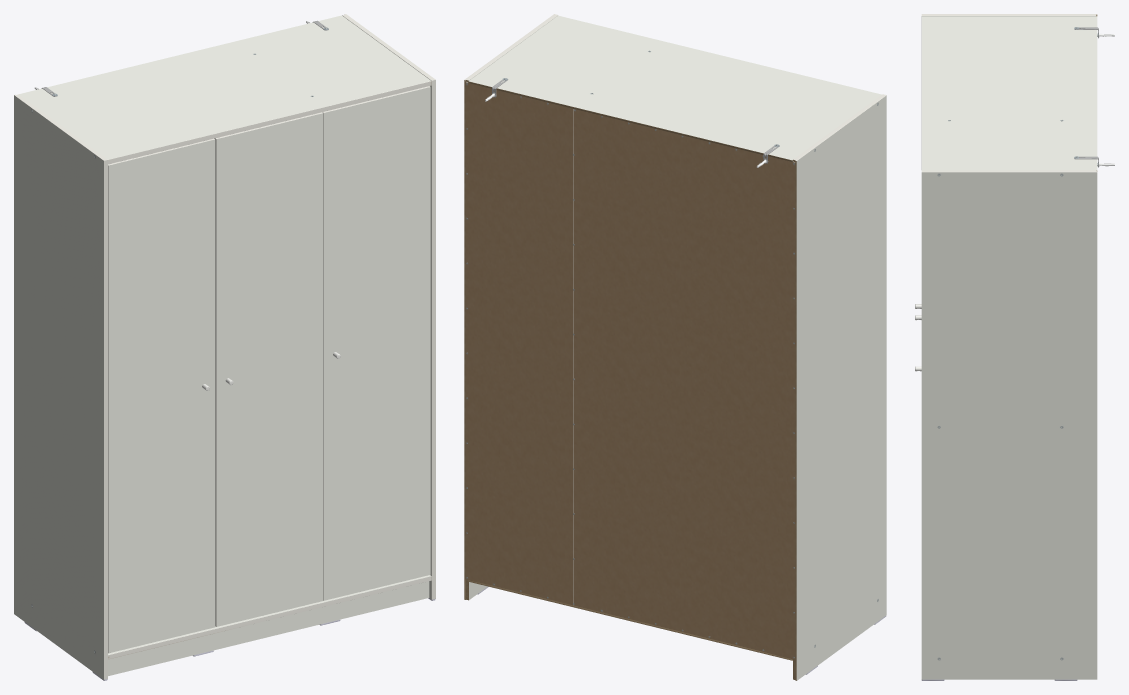
Rendered from 02 - KLEPPSTAD Wardrobe with 3 doors - white 117x55x176 cm.glb.
The picture shows the model from 3 angles, left to right: view 1: azimuth 30°, elevation 25°; view 2: azimuth 150°, elevation 25°; view 3: azimuth 270°, elevation 25°; orthographic projection. The views are drawn at different scales.
Parts seen in each view (by area): view 1: Mesh_0; view 2: Mesh_0; view 3: Mesh_0.
Part boxes in pixels (bbox=[...]): Mesh_0: bbox=[14, 14, 435, 680]; Mesh_0: bbox=[464, 14, 886, 680]; Mesh_0: bbox=[915, 14, 1114, 680].
Size of the model in its own units: 1.17 by 1.76 by 0.6254.
Materials: 1 (1 with a texture image).
